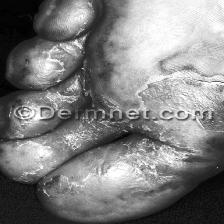Non-Cancerous Skin Condition: (132, 76, 224, 134), (42, 176, 148, 208), (48, 75, 122, 109), (130, 138, 193, 170)
